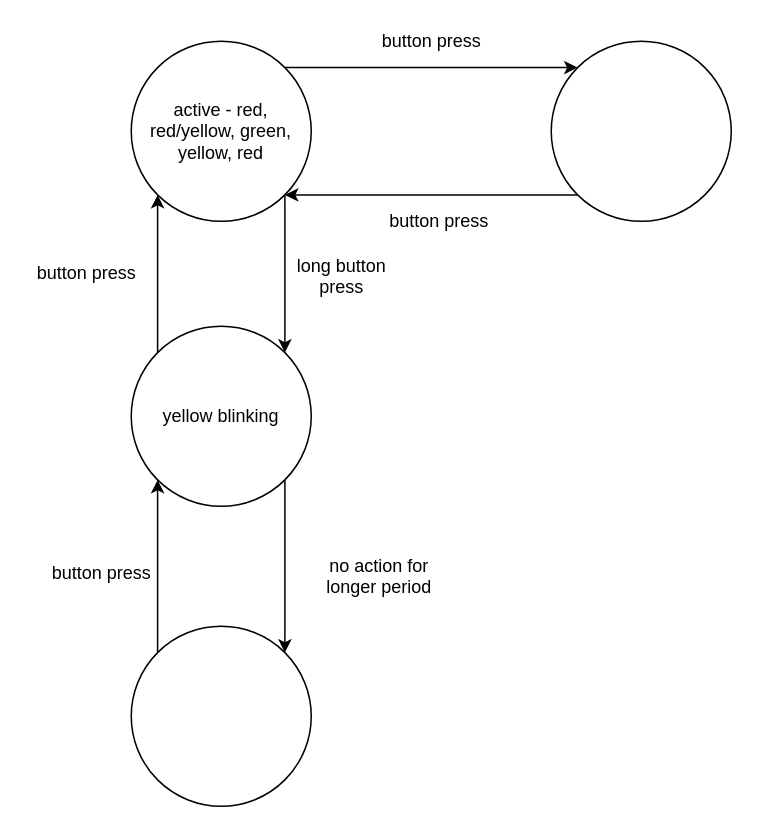
This 758x833 diagram has some shape labels left out. The shapes that lost their labels are listed below. From the top down, each one's centre as x and y in pixels, then its label:
[640,130]: stop
[220,715]: standby state
